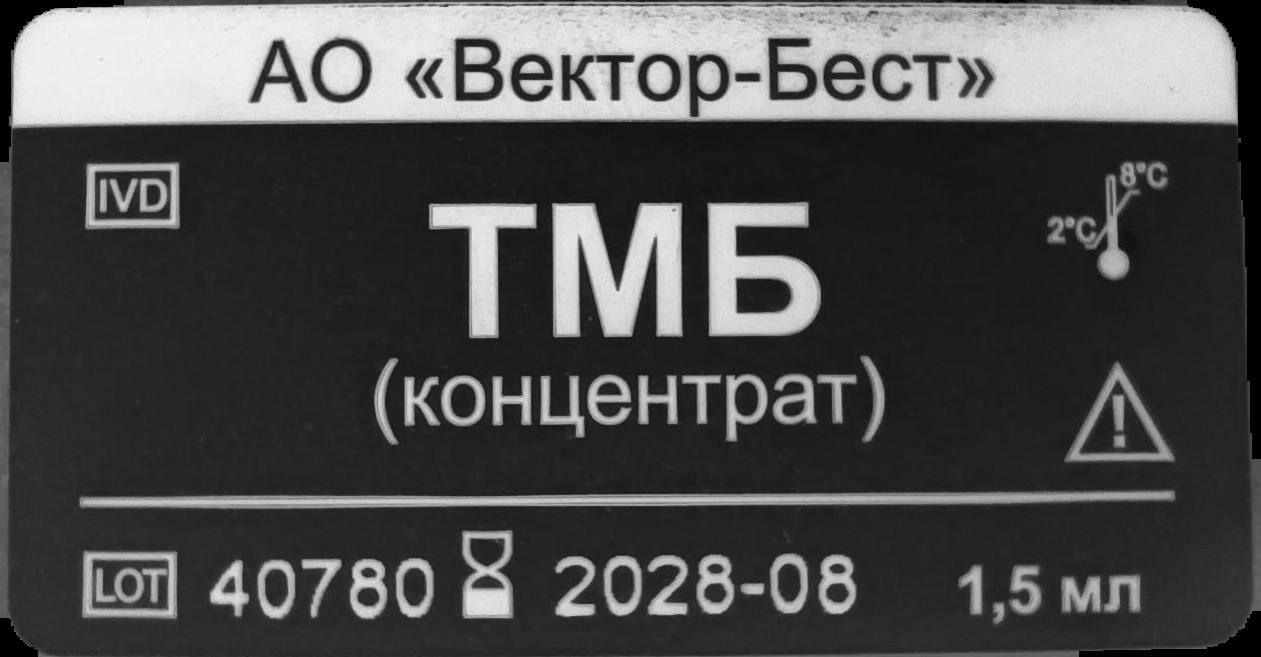something: (1042, 155, 1169, 282), (1065, 359, 1180, 463), (83, 548, 181, 624), (83, 159, 182, 231), (459, 525, 516, 629)
text: (369, 193, 895, 448), (245, 32, 1005, 121), (544, 551, 865, 626), (206, 550, 437, 629), (956, 558, 1155, 633)
